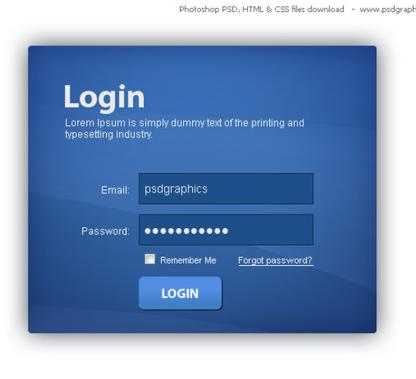button: (137, 275, 224, 312)
checkbox: (142, 252, 159, 265)
checkbox_with_label: (140, 251, 215, 267)
field: (136, 172, 317, 206), (136, 213, 315, 247)
field_with_label: (81, 211, 316, 249), (100, 171, 318, 207)
